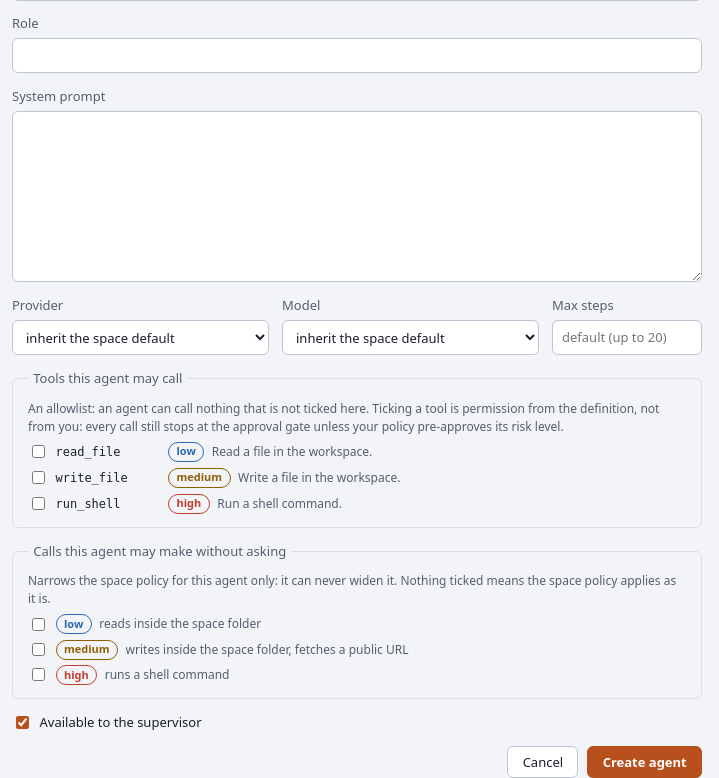
before the round trip › refuses an empty name and an empty prompt itself, on the fields
(page scrolled)
Click the button "Create agent" at (645, 762), box [587,746,702,777]
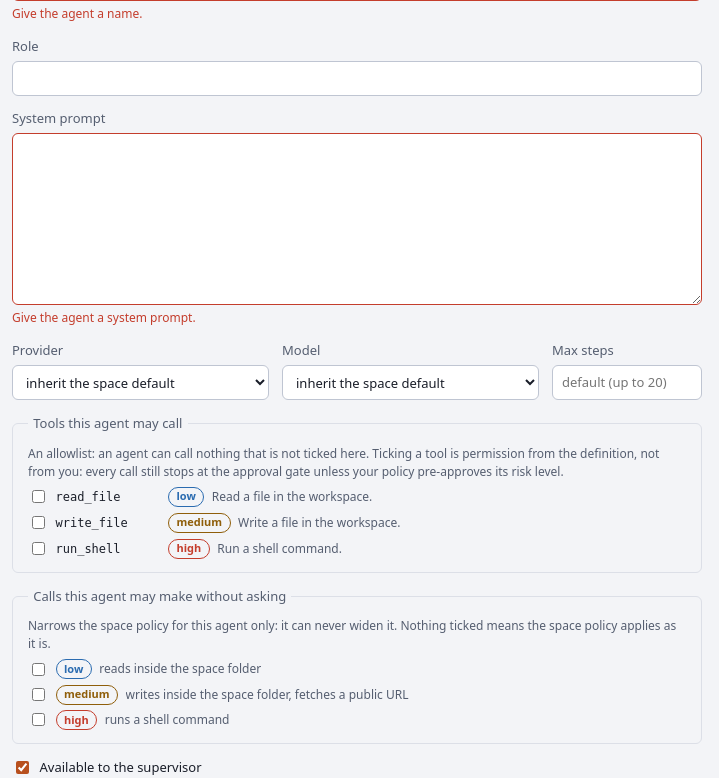
Expected: the message with test id "error-name" shows "name", [12,5,142,22]
Expected: the message with test id "error-system_prompt" shows "prompt", [12,309,196,326]
